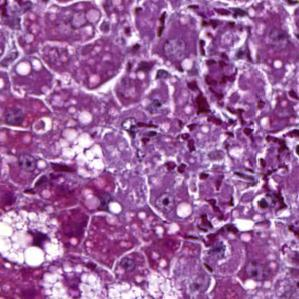ballooning: (1, 208, 66, 270), (37, 255, 113, 299)
